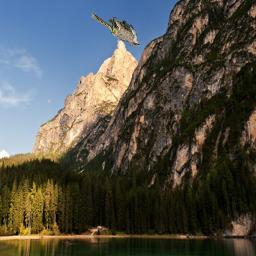Cuckoo: (92, 14, 141, 47)
